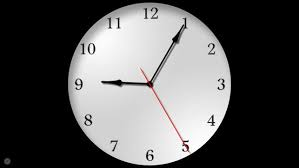alarm_clock: (64, 0, 229, 167), (64, 4, 229, 167), (70, 4, 229, 167)
